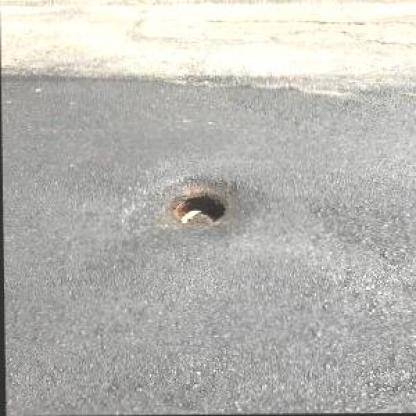pothole: (168, 192, 233, 228)
